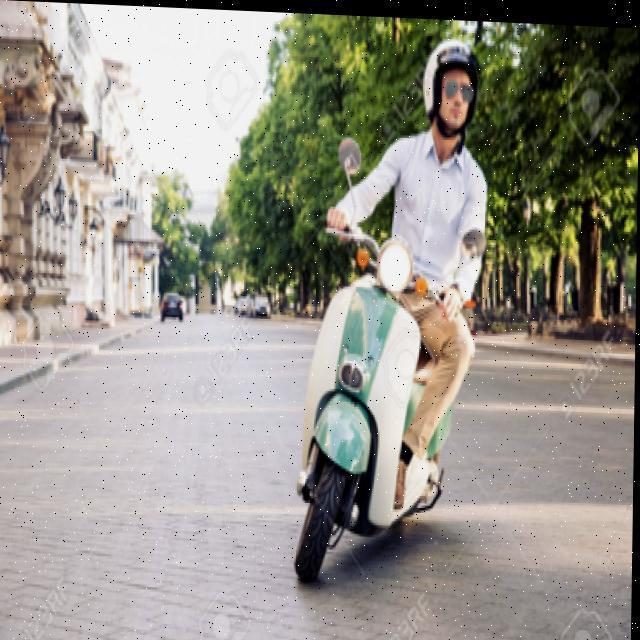Helmet: (418, 28, 482, 136)
